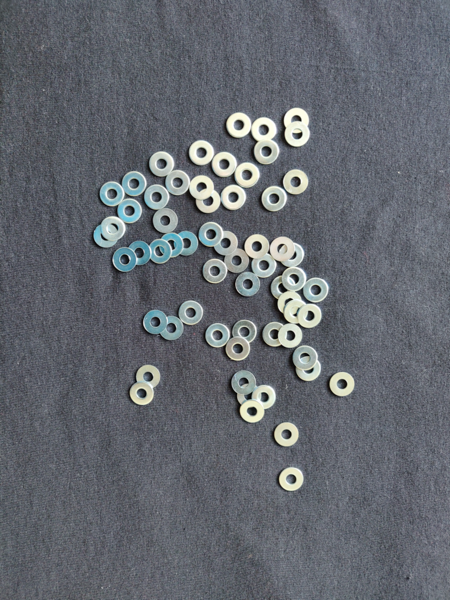circle: (327, 371, 358, 399), (282, 166, 311, 195), (235, 382, 263, 411), (294, 356, 323, 383), (262, 185, 289, 214), (253, 140, 282, 167), (134, 364, 164, 390), (159, 315, 186, 343), (283, 123, 311, 150), (225, 112, 252, 140), (236, 161, 263, 189), (140, 309, 169, 335), (166, 169, 192, 198), (178, 299, 205, 326), (303, 277, 330, 304), (279, 242, 306, 269), (189, 140, 216, 167), (230, 370, 258, 396), (292, 345, 320, 371), (112, 247, 138, 275), (252, 117, 278, 145), (153, 206, 179, 234), (202, 256, 227, 285), (281, 109, 310, 134), (129, 381, 156, 407), (212, 151, 239, 177), (121, 171, 148, 197), (280, 466, 305, 494), (214, 229, 239, 257), (127, 240, 152, 268), (92, 224, 120, 249), (252, 384, 278, 410), (262, 322, 288, 348), (198, 222, 224, 248), (174, 231, 200, 257), (221, 186, 247, 212), (189, 175, 215, 201), (224, 248, 249, 275), (196, 189, 221, 216), (145, 185, 172, 210), (275, 422, 301, 447), (204, 323, 230, 348), (158, 233, 183, 259), (150, 152, 175, 178), (225, 337, 252, 361), (298, 303, 322, 330), (276, 292, 303, 316), (148, 237, 172, 264), (280, 322, 303, 350), (240, 400, 265, 425), (100, 182, 125, 207), (272, 277, 298, 301), (251, 254, 277, 278), (284, 300, 308, 325), (283, 267, 307, 292), (245, 233, 270, 257), (236, 272, 261, 296), (271, 236, 294, 262), (233, 319, 257, 343), (119, 198, 142, 223), (102, 217, 125, 241)
